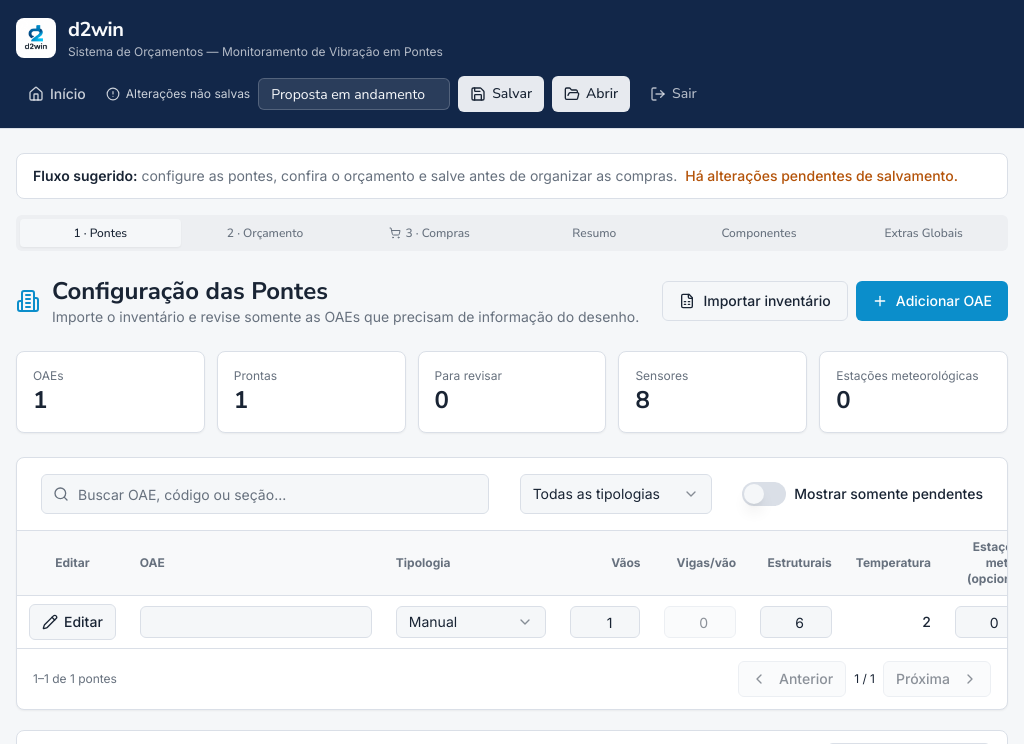
Test: navegação segura do orçamento › avisa sobre alterações e permite cancelar a troca de orçamento
Earlier steps of the test are not shown.
Expected: the text "Alterações não salvas" is shown, [106,86,250,102]
What coordinates should you click on to do the following:
click the button "Abrir"
I would click on:
 (591, 94)
Its box is [552,76,630,112].
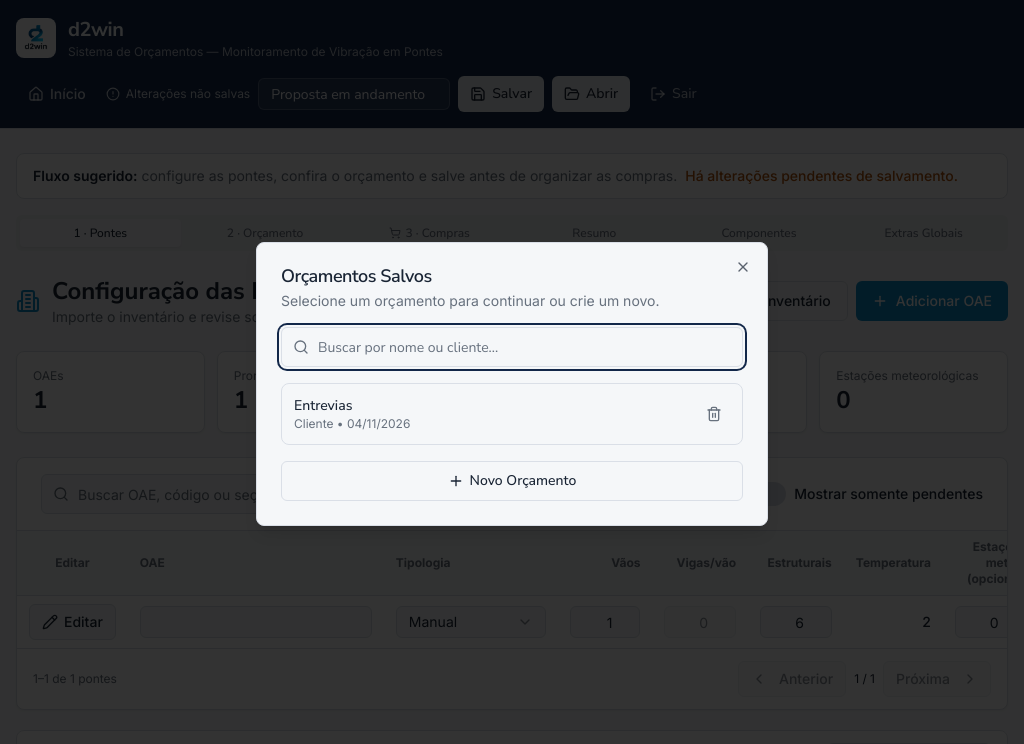
What coordinates should you click on to do the following:
click the button "Novo Orçamento"
I would click on:
 (512, 481)
Its box is [281,461,743,501].
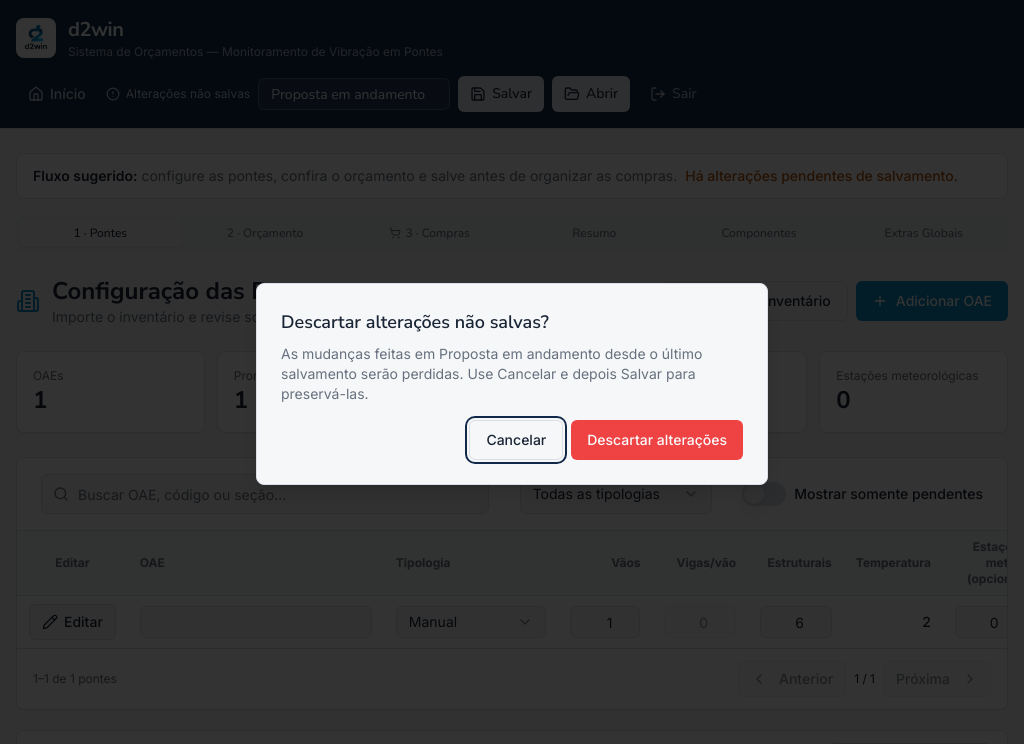
Result: the dialog shows "Descartar alterações não salvas?" at [281,310,549,334]
What coordinates should you click on to do the following:
click the button "Cancelar"
I would click on:
 (516, 440)
Its box is [469,420,563,460].
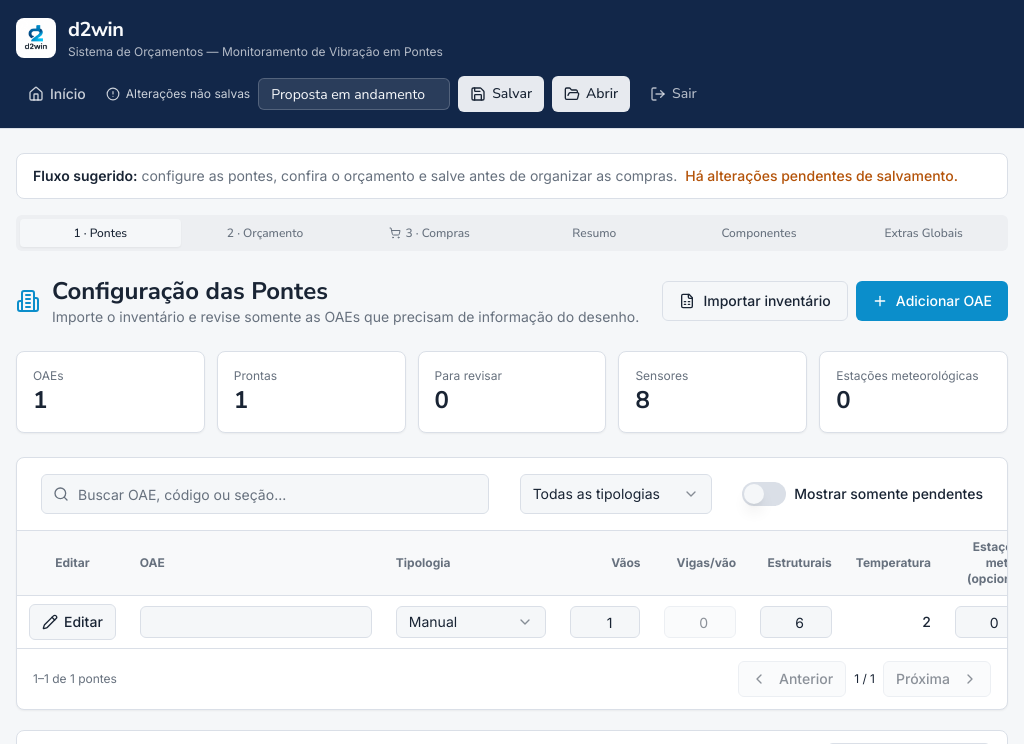
What coordinates should you click on to do the following:
click the button "Abrir"
I would click on:
 (591, 94)
Its box is [552,76,630,112].
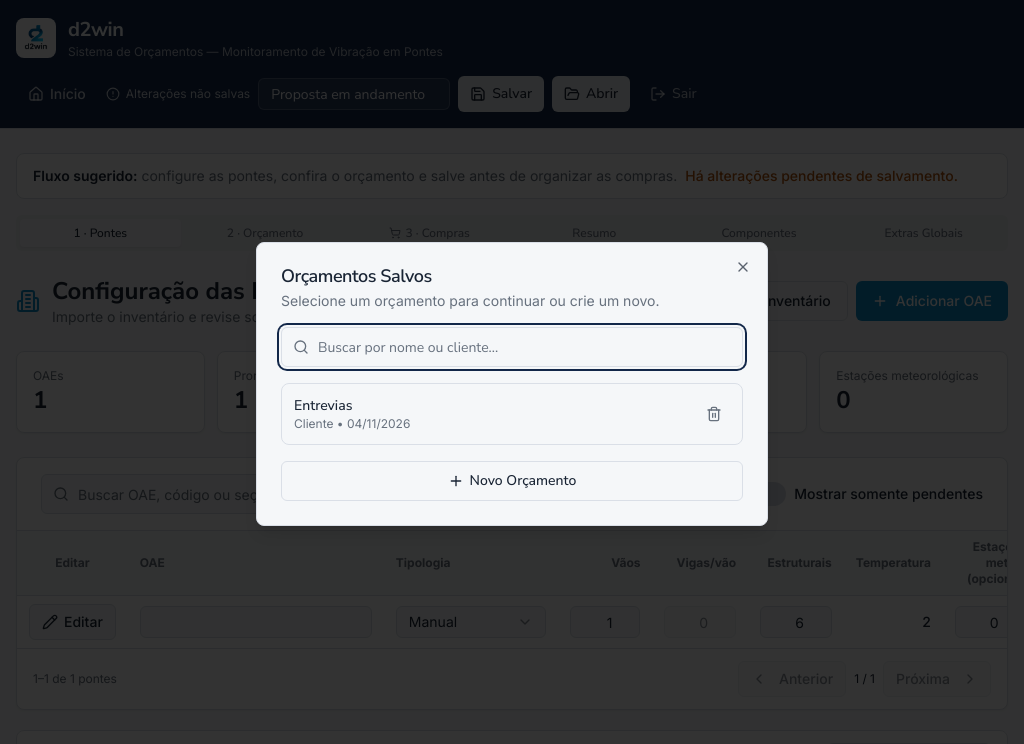
What coordinates should you click on to do the following:
click the button "Novo Orçamento"
I would click on:
 (512, 481)
Its box is [281,461,743,501].
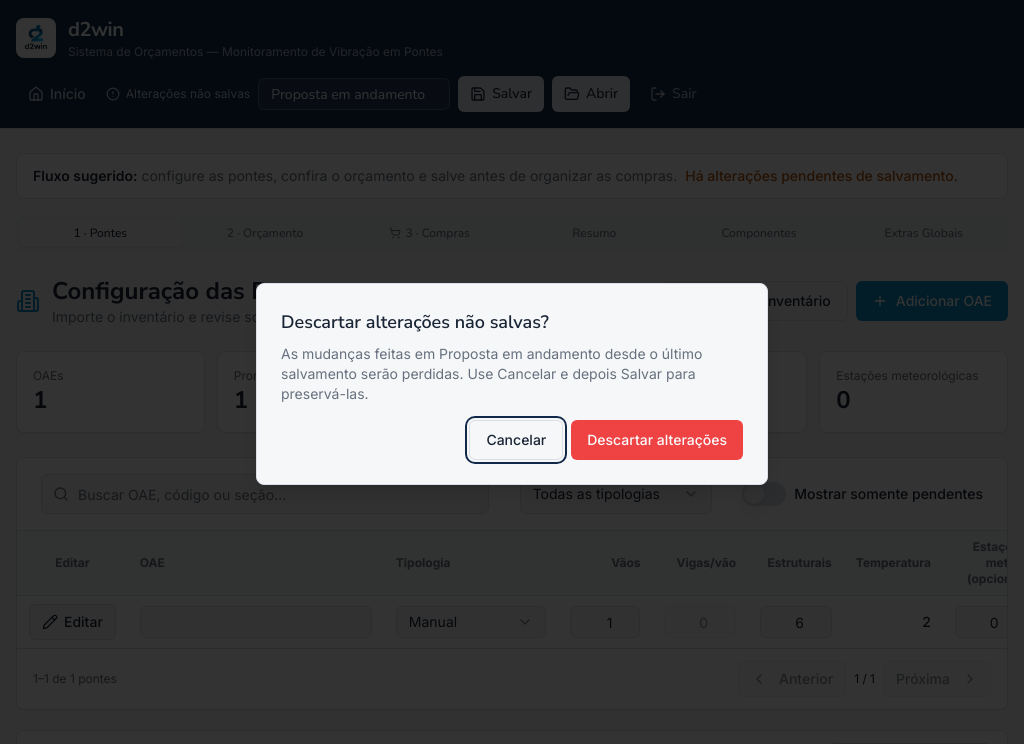
What coordinates should you click on to do the following:
click the button "Descartar alterações"
I would click on:
 (657, 440)
Its box is [571,420,743,460].
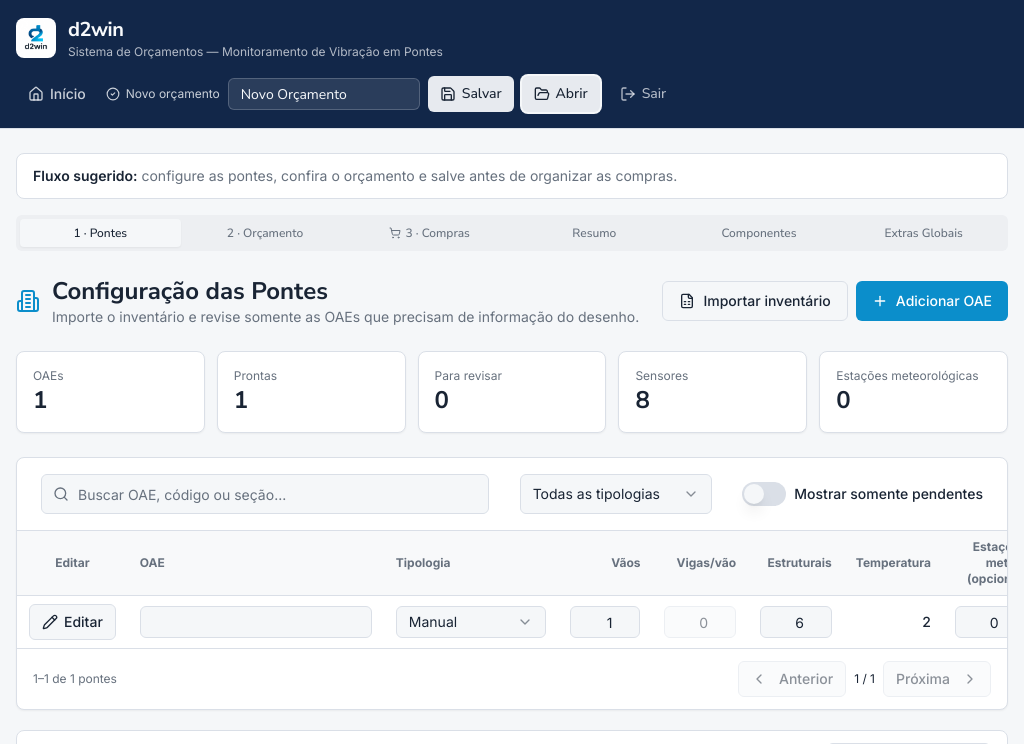
Result: the field named "Nome do orçamento" holds "Novo Orçamento" at [228,78,420,110]
